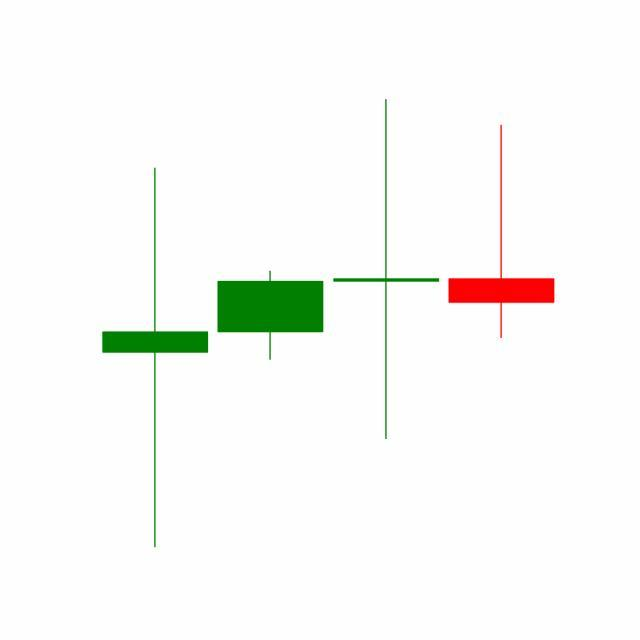Spinning Top: (329, 96, 445, 443)
